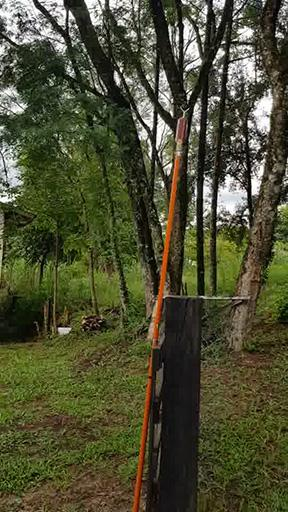Detector_Tensao_Contato: (172, 107, 191, 145)
Vara_Manobra: (132, 144, 186, 512)
